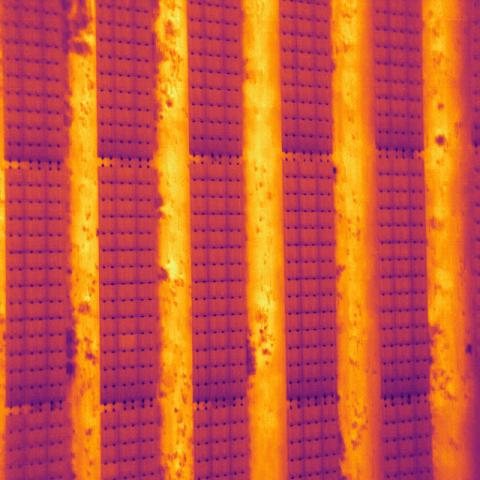fault: (119, 333, 137, 352)
